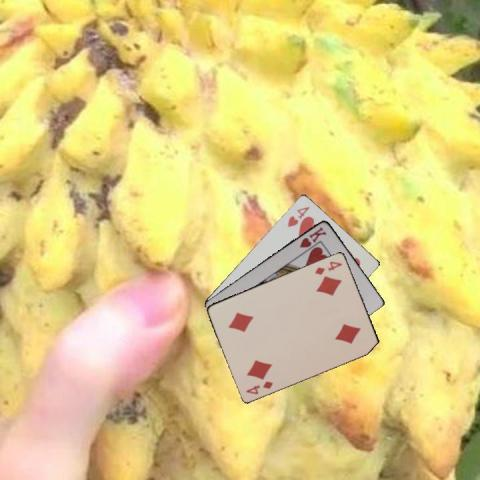4d: (312, 258, 344, 276), (243, 378, 274, 395)
4h: (284, 203, 310, 229)
Kh: (297, 223, 328, 249)
